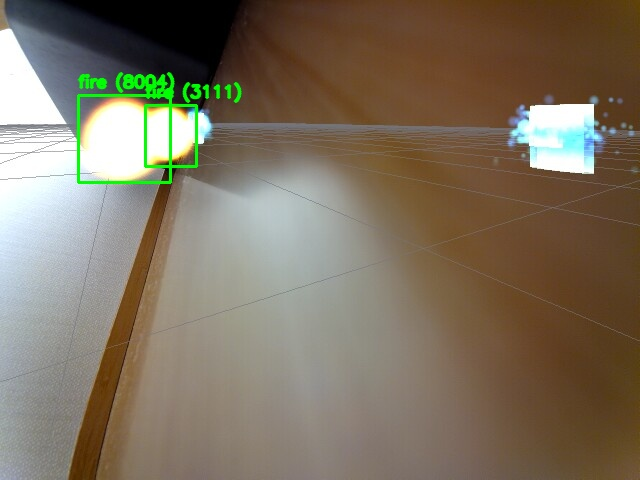fire: (78, 95, 170, 182), (145, 105, 196, 166)
